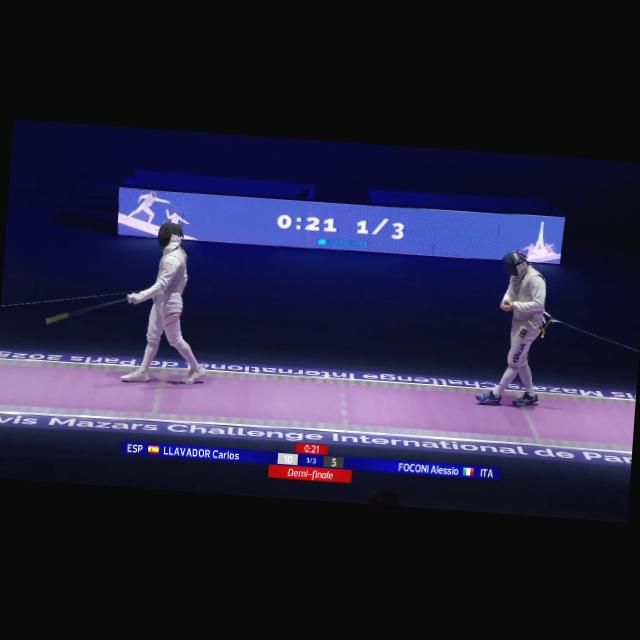blade: (42, 284, 140, 334)
